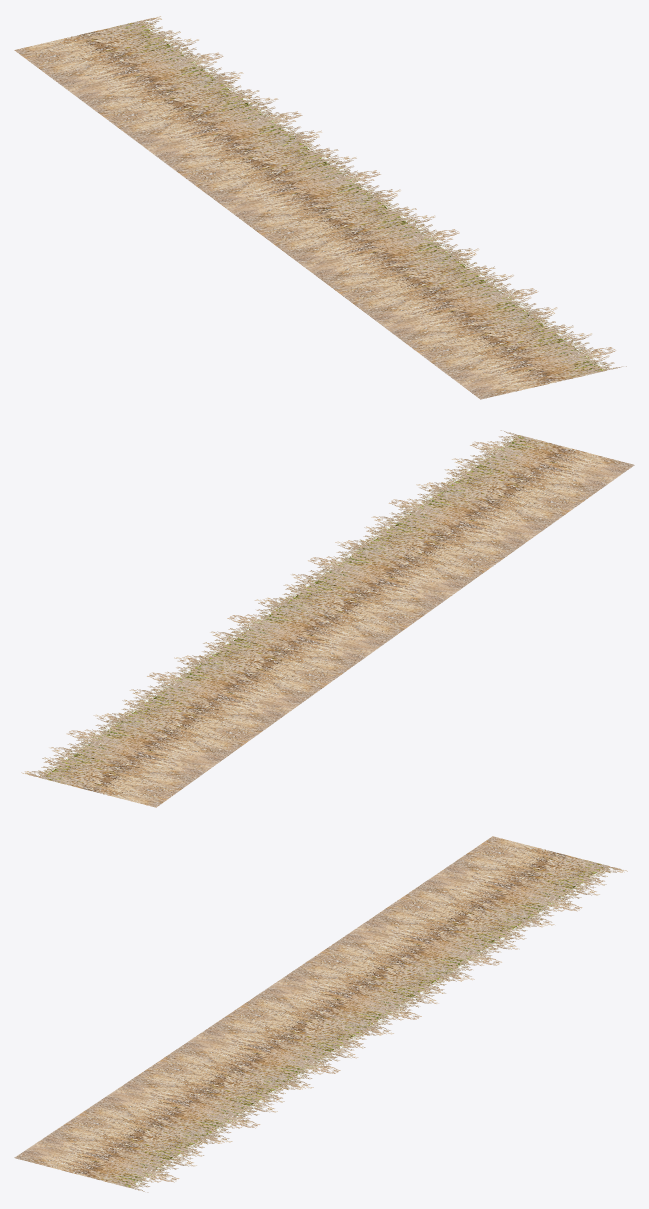
3 views of the same model, one above another, from view 1: azimuth 30°, elevation 25°; view 2: azimuth 150°, elevation 25°; view 3: azimuth 330°, elevation 25° (orthographic). The views are drawn at different scales.
Visible parts, largest first — view 1: Default_Road_001.001; view 2: Default_Road_001.001; view 3: Default_Road_001.001.
Part boxes in pixels (x1,y1,x2,y2): Default_Road_001.001: [14, 16, 626, 399]; Default_Road_001.001: [21, 430, 634, 807]; Default_Road_001.001: [14, 836, 627, 1192].
Bounding box in the file's own units: 598 × 36.91 × 2945.
